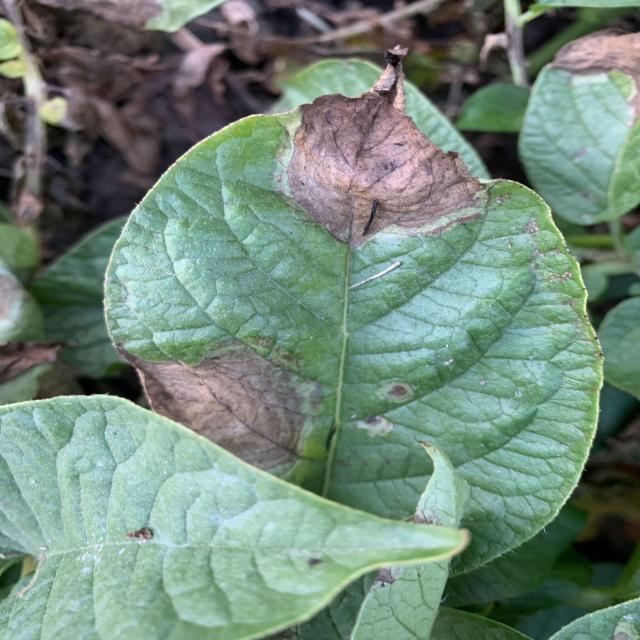lateblight: (287, 48, 485, 246), (117, 345, 322, 472)
